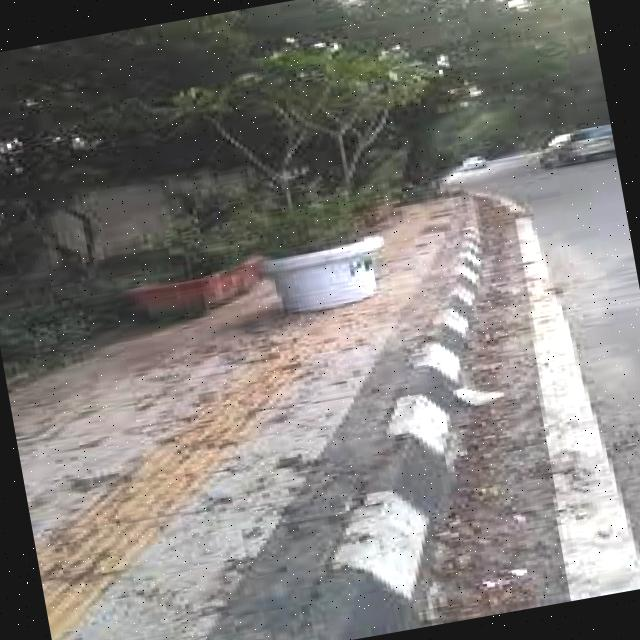curb: (280, 448, 473, 640), (363, 279, 508, 452), (447, 191, 519, 304)
